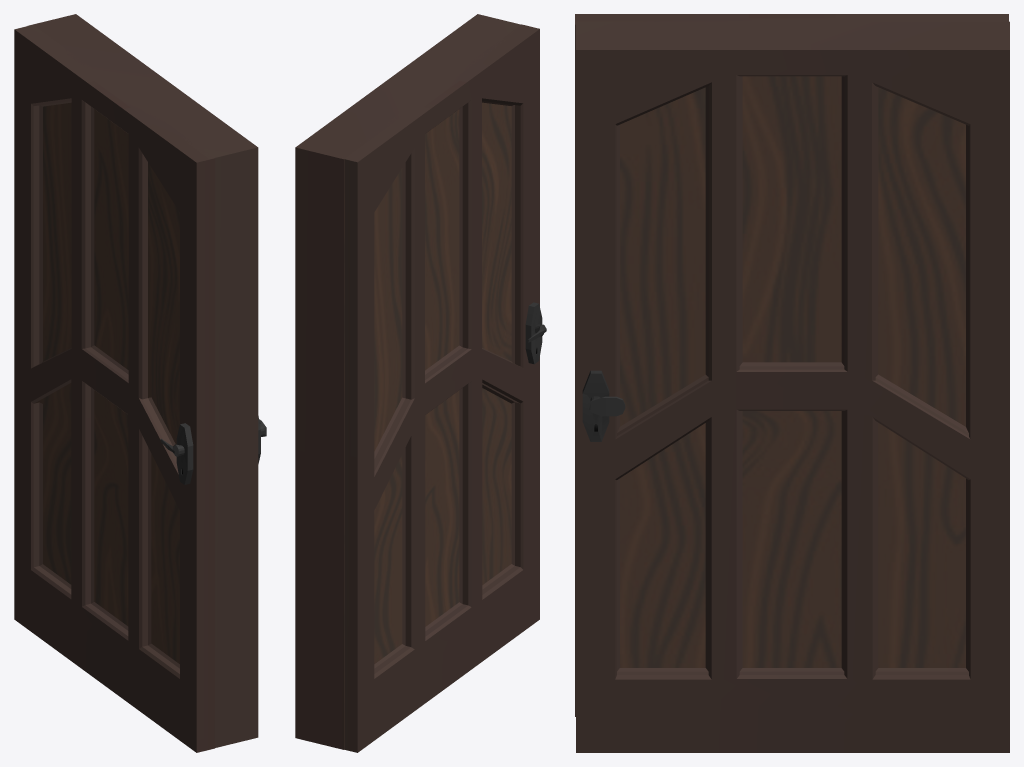
Rendered from Door C.fbx.
The picture shows the model from 3 angles, left to right: view 1: azimuth 30°, elevation 25°; view 2: azimuth 150°, elevation 25°; view 3: azimuth 270°, elevation 25°; orthographic projection. The views are drawn at different scales.
Visible parts, largest first — view 1: Door C; view 2: Door C; view 3: Door C.
Part boxes in pixels (<box>): Door C: <box>14,14,266,752</box>; Door C: <box>295,14,546,752</box>; Door C: <box>575,14,1009,752</box>.
Bounding box in the file's own units: 79.9 × 497 × 279.
